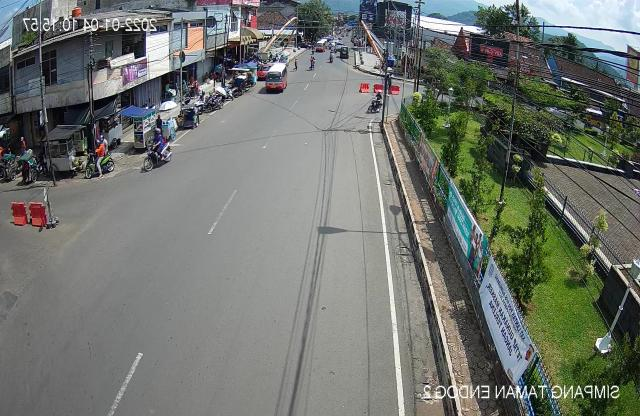Mobil: (84, 131, 115, 187), (265, 62, 288, 96)
Motor: (140, 125, 173, 177), (364, 90, 384, 116)
